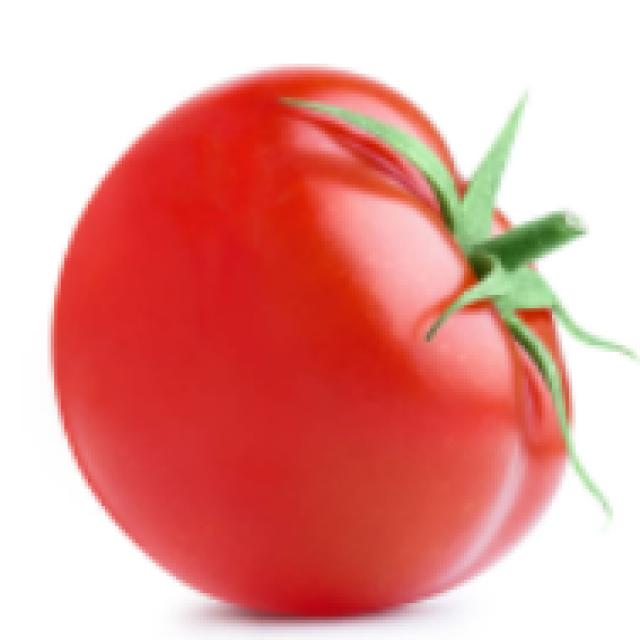Tomato: (32, 55, 609, 624)
